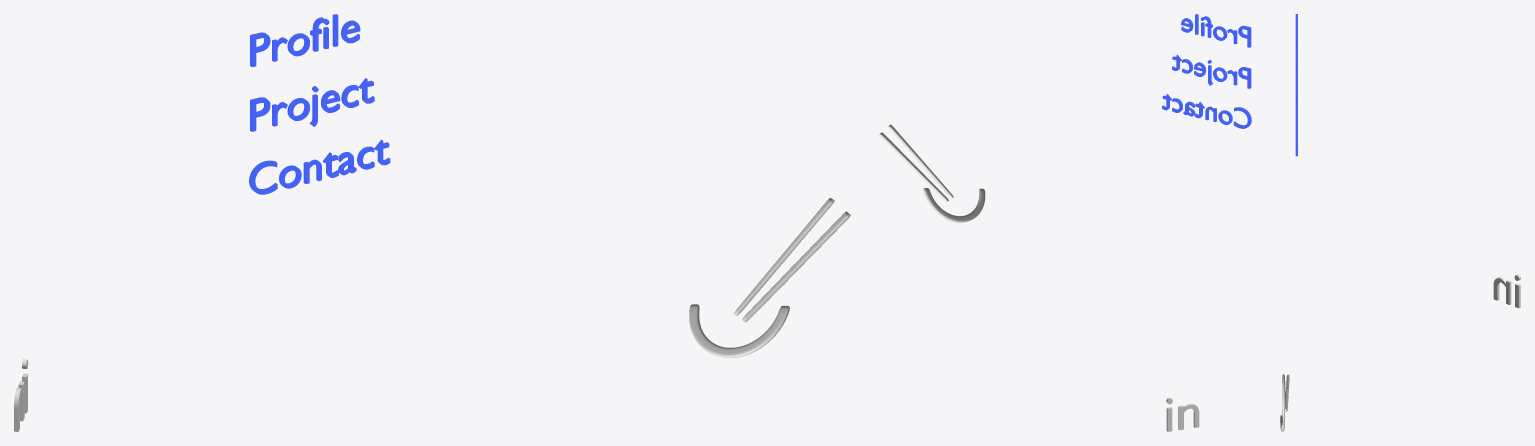
File: SpaceText1.glb
3 views of the same model, side by side, from view 1: azimuth 30°, elevation 25°; view 2: azimuth 150°, elevation 25°; view 3: azimuth 270°, elevation 25° (orthographic). The views are drawn at different scales.
Visible parts, largest first — view 1: Text.003, Circle.002; view 2: Text.003, Circle.002, Text.002; view 3: Text.002, Text.003, Circle.002.
Boxes of the visible parts, x1,y1,x2,y2 form: Text.003: (249, 14, 390, 194); Circle.002: (689, 198, 850, 357); Text.003: (1162, 14, 1251, 128); Circle.002: (879, 124, 985, 222); Text.002: (1166, 397, 1199, 431); Text.002: (1493, 274, 1520, 308); Text.003: (1295, 14, 1297, 156); Circle.002: (1280, 374, 1289, 431).
Size of the model in its own units: 19.03 by 13.4 by 9.48.
